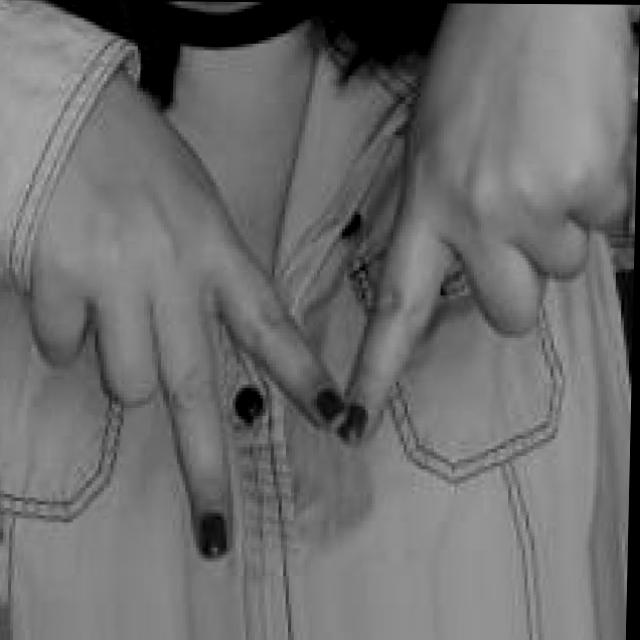N: (19, 55, 633, 561)
